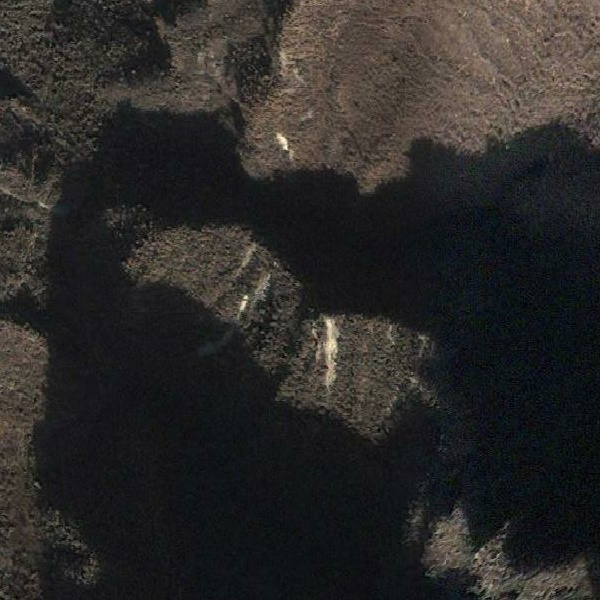slope: (311, 311, 346, 391), (272, 128, 292, 156)
